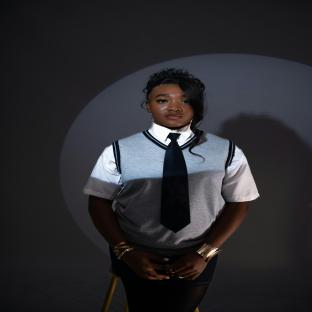Human: (84, 68, 258, 312)
